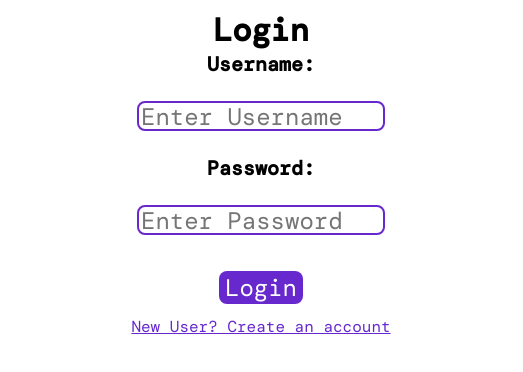
Test: LoginPage › shows error when password is empty
The image size is (523, 372).
Only fill username
Type "testuser" into the field with placeholder "Enter Username".
click(261, 116); type("testuser")  # box top-left (137, 101), bottom-right (385, 131)
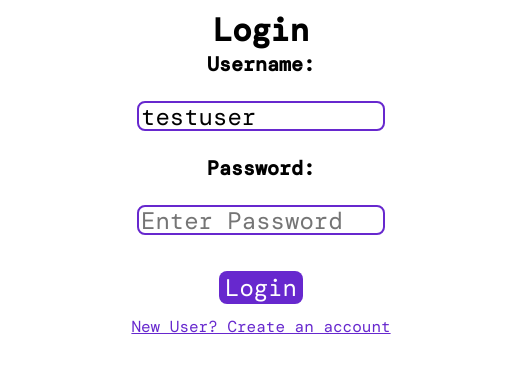
Click login
Click the button "Login".
click(261, 288)  # box top-left (219, 271), bottom-right (303, 304)
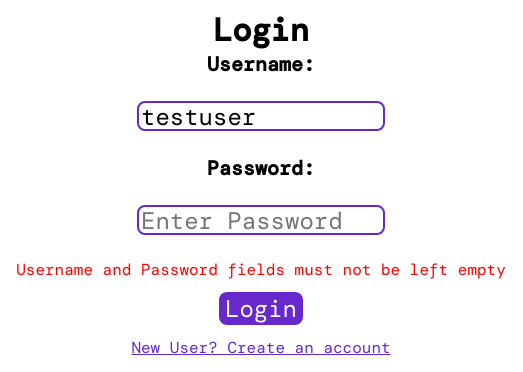
Check: the text "Username and Password fields must not be left empty" is shown, box top-left (16, 259), bottom-right (506, 280)
